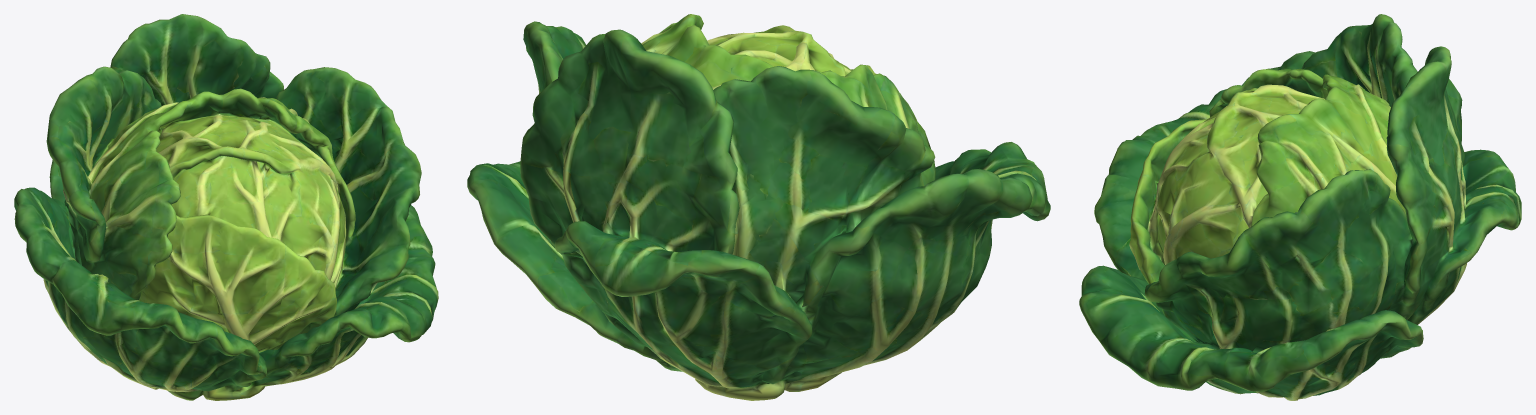
Rendered from cabbage-mature.glb.
3 views of the same model, side by side, from view 1: azimuth 30°, elevation 25°; view 2: azimuth 150°, elevation 25°; view 3: azimuth 270°, elevation 25° (orthographic). The views are drawn at different scales.
Bounding box in the file's own units: 1.9 × 1.36 × 1.68.
Materials: 1 (1 with a texture image).
